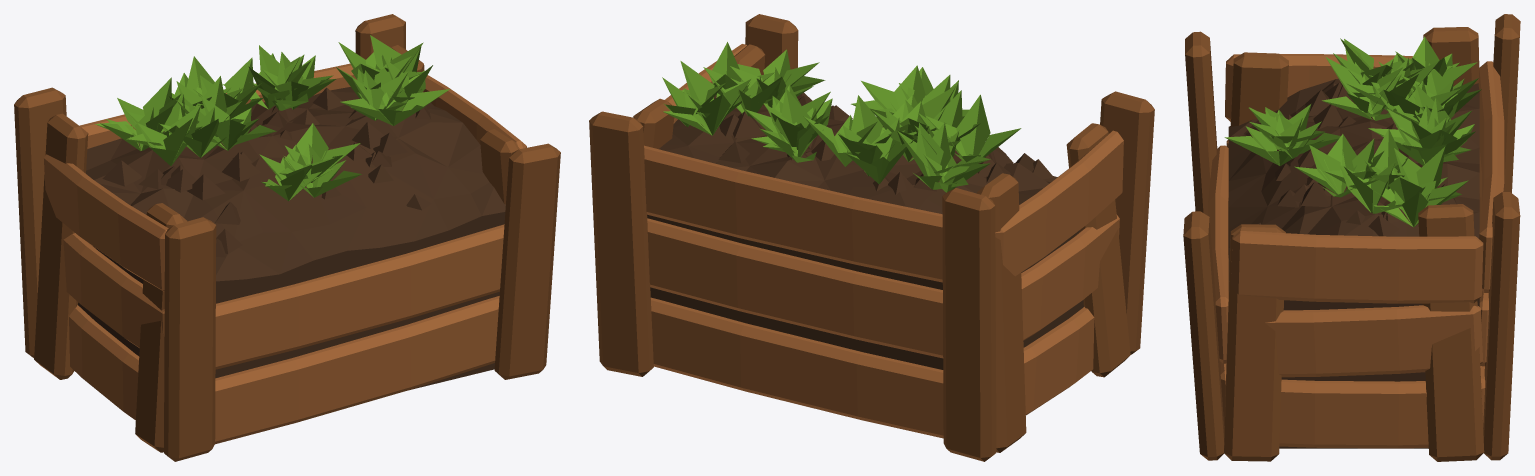
3 views of the same model, side by side, from view 1: azimuth 30°, elevation 25°; view 2: azimuth 150°, elevation 25°; view 3: azimuth 270°, elevation 25° (orthographic). The views are drawn at different scales.
Parts seen in each view (by area): view 1: planks, compost, posts, clippings; view 2: planks, posts, clippings, compost; view 3: planks, posts, clippings, compost.
Part boxes in pixels (x1,y1,x2,y2): planks: [44, 63, 526, 444]; compost: [78, 87, 505, 390]; posts: [14, 14, 560, 461]; clippings: [94, 35, 449, 201]; planks: [644, 44, 1123, 438]; posts: [589, 14, 1154, 461]; clippings: [662, 42, 1021, 192]; compost: [647, 92, 1083, 369]; planks: [1208, 54, 1504, 448]; posts: [1183, 14, 1520, 461]; clippings: [1224, 36, 1481, 227]; compost: [1228, 78, 1479, 448].
Bounding box in the file's own units: 1.83 × 1.25 × 1.34.
